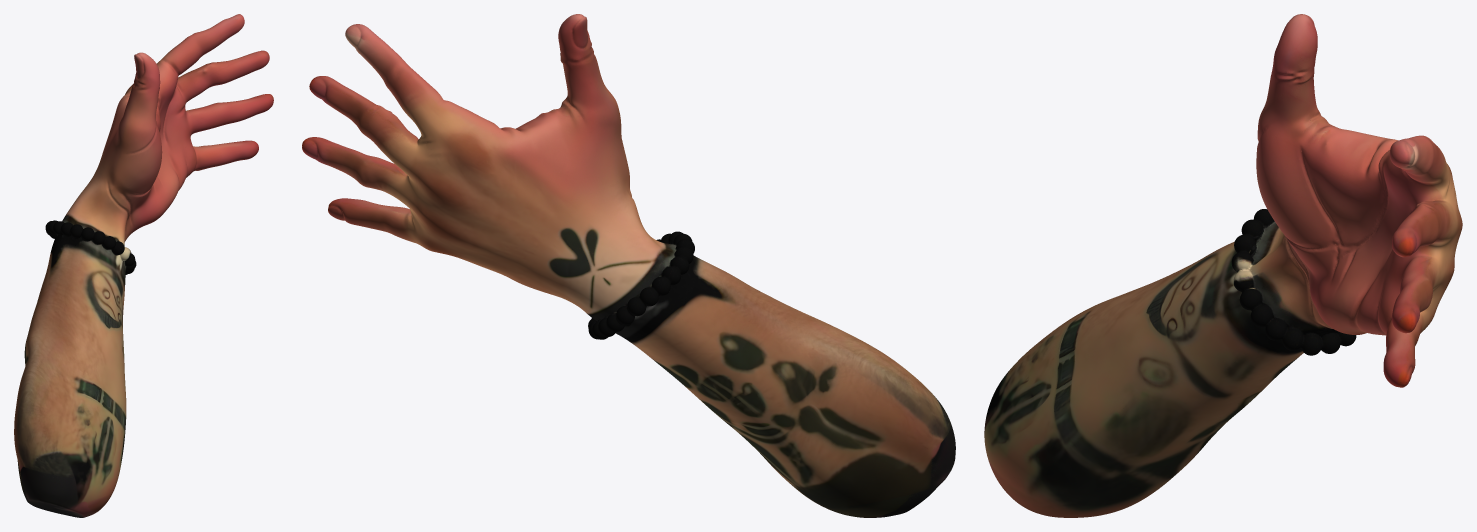
Rendered from generated_object_20260520_101014.glb.
The picture shows the model from 3 angles, left to right: view 1: azimuth 30°, elevation 25°; view 2: azimuth 150°, elevation 25°; view 3: azimuth 270°, elevation 25°; orthographic projection. The views are drawn at different scales.
Bounding box in the file's own units: 1.9 × 1.9 × 1.36.
1 material, 1 textured.
